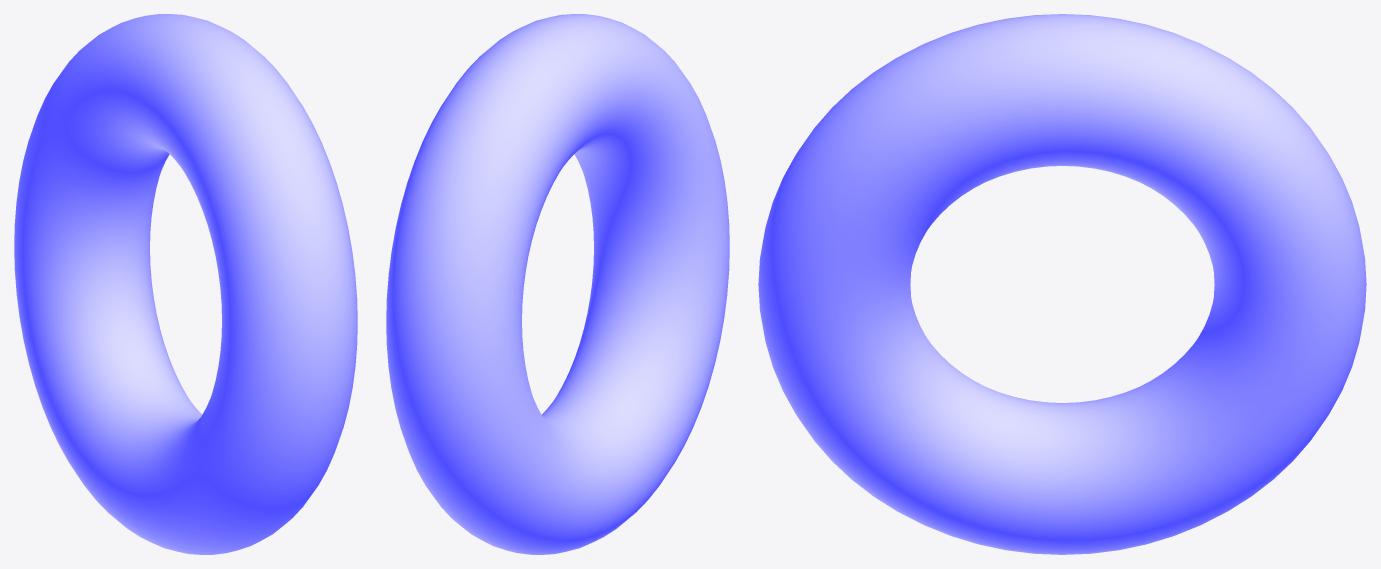
The model's file is hookspotBoosted.glb.
The picture shows the model from 3 angles, left to right: view 1: azimuth 30°, elevation 25°; view 2: azimuth 150°, elevation 25°; view 3: azimuth 270°, elevation 25°; orthographic projection. The views are drawn at different scales.
Visible parts, largest first — view 1: MeshInstance3D; view 2: MeshInstance3D; view 3: MeshInstance3D.
Boxes of the visible parts, bbox=[...] form: MeshInstance3D: bbox=[14, 14, 357, 554]; MeshInstance3D: bbox=[386, 14, 729, 554]; MeshInstance3D: bbox=[758, 14, 1366, 554].
Bounding box in the file's own units: 0.6671 × 1.99 × 2.
